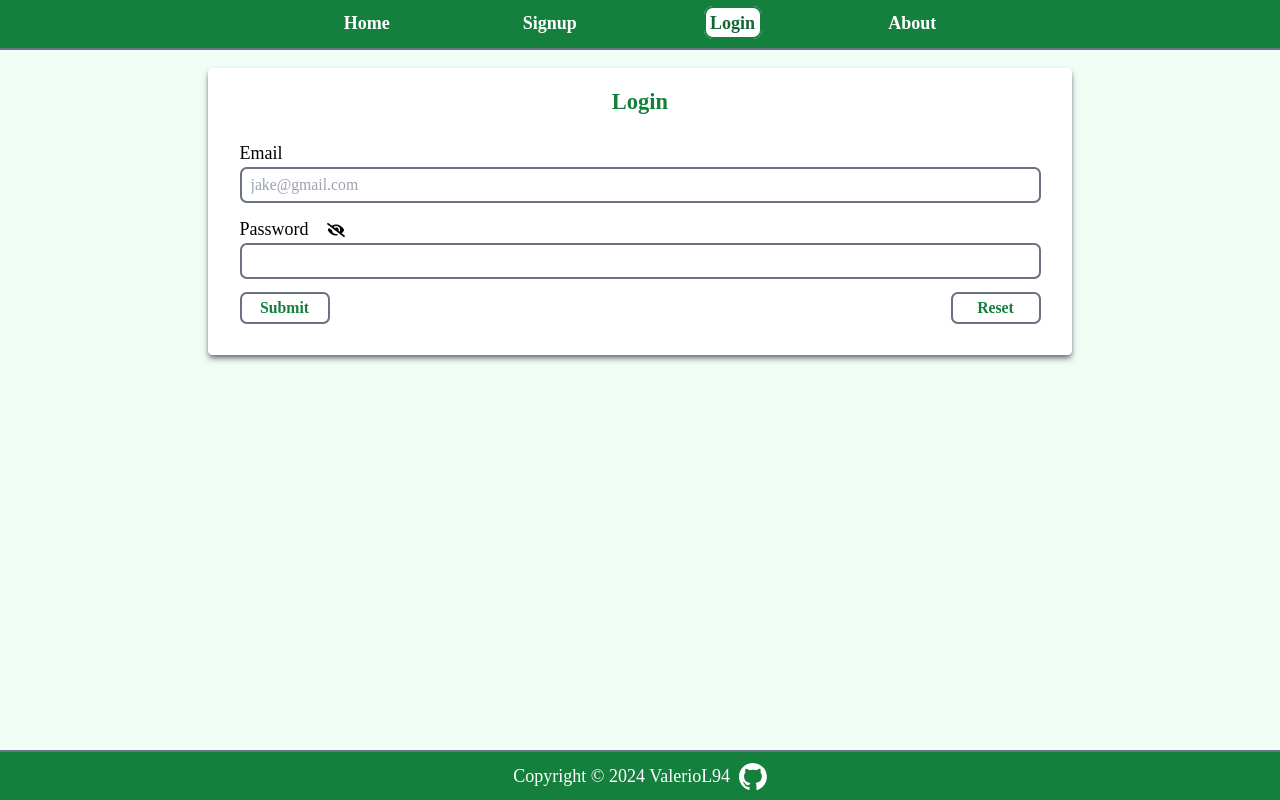
Test: navbar component tests › no auth rendering/navigating › about link rendering/navigating
Click the link "About" at coordinates (912, 22), box [882,6,943,38]
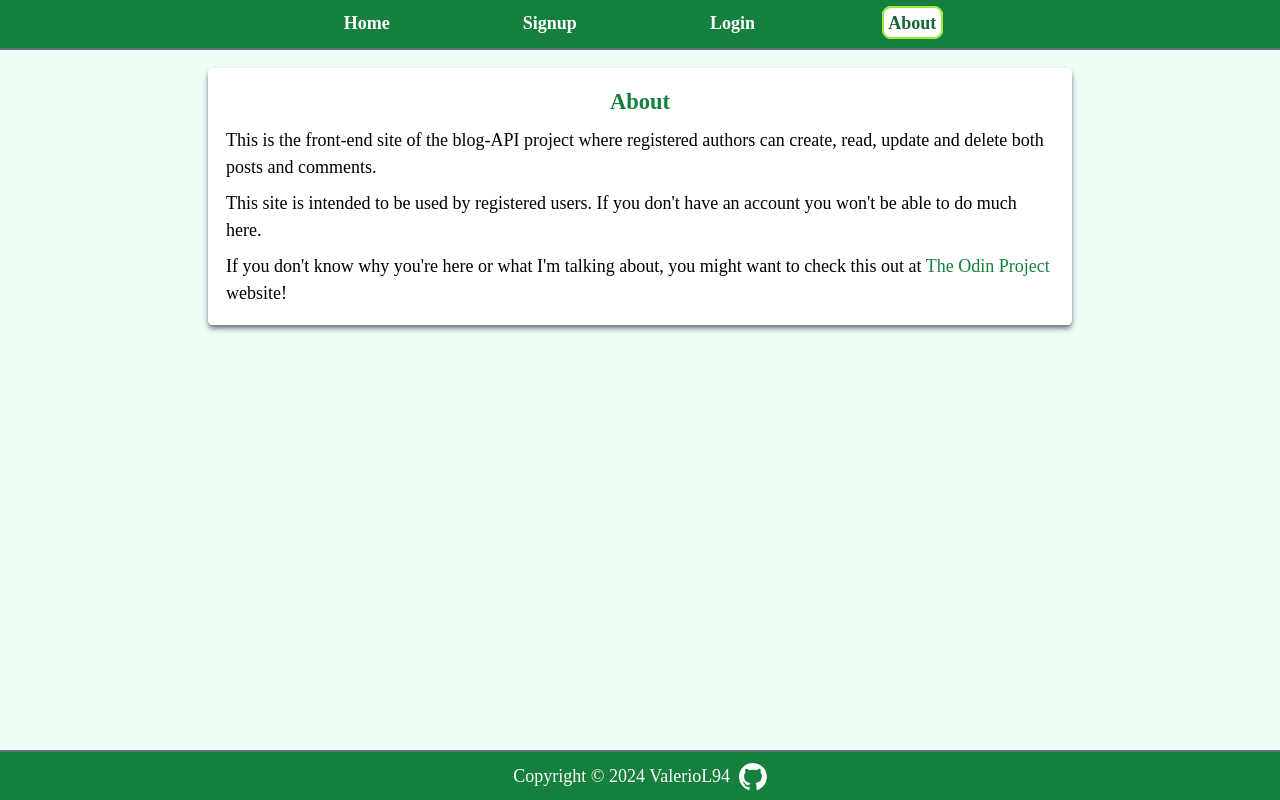
Check: the heading "About" is shown, box [610,89,670,114]
